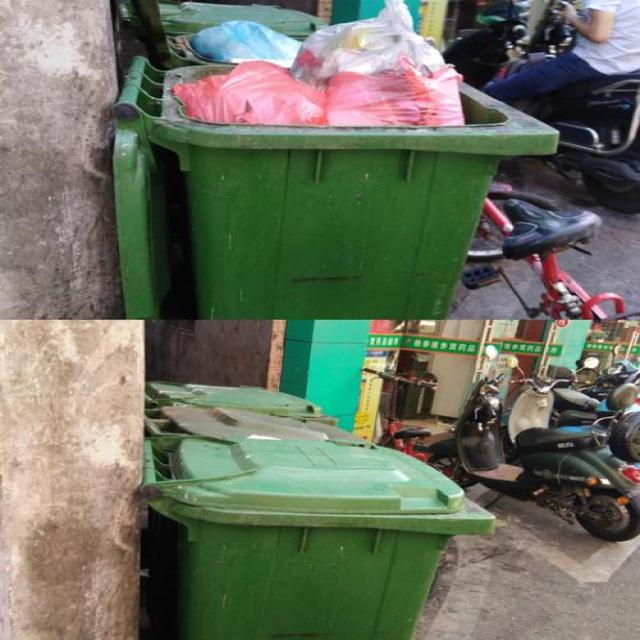garbage_bin: (141, 436, 495, 639)
overflow: (111, 0, 558, 316)
